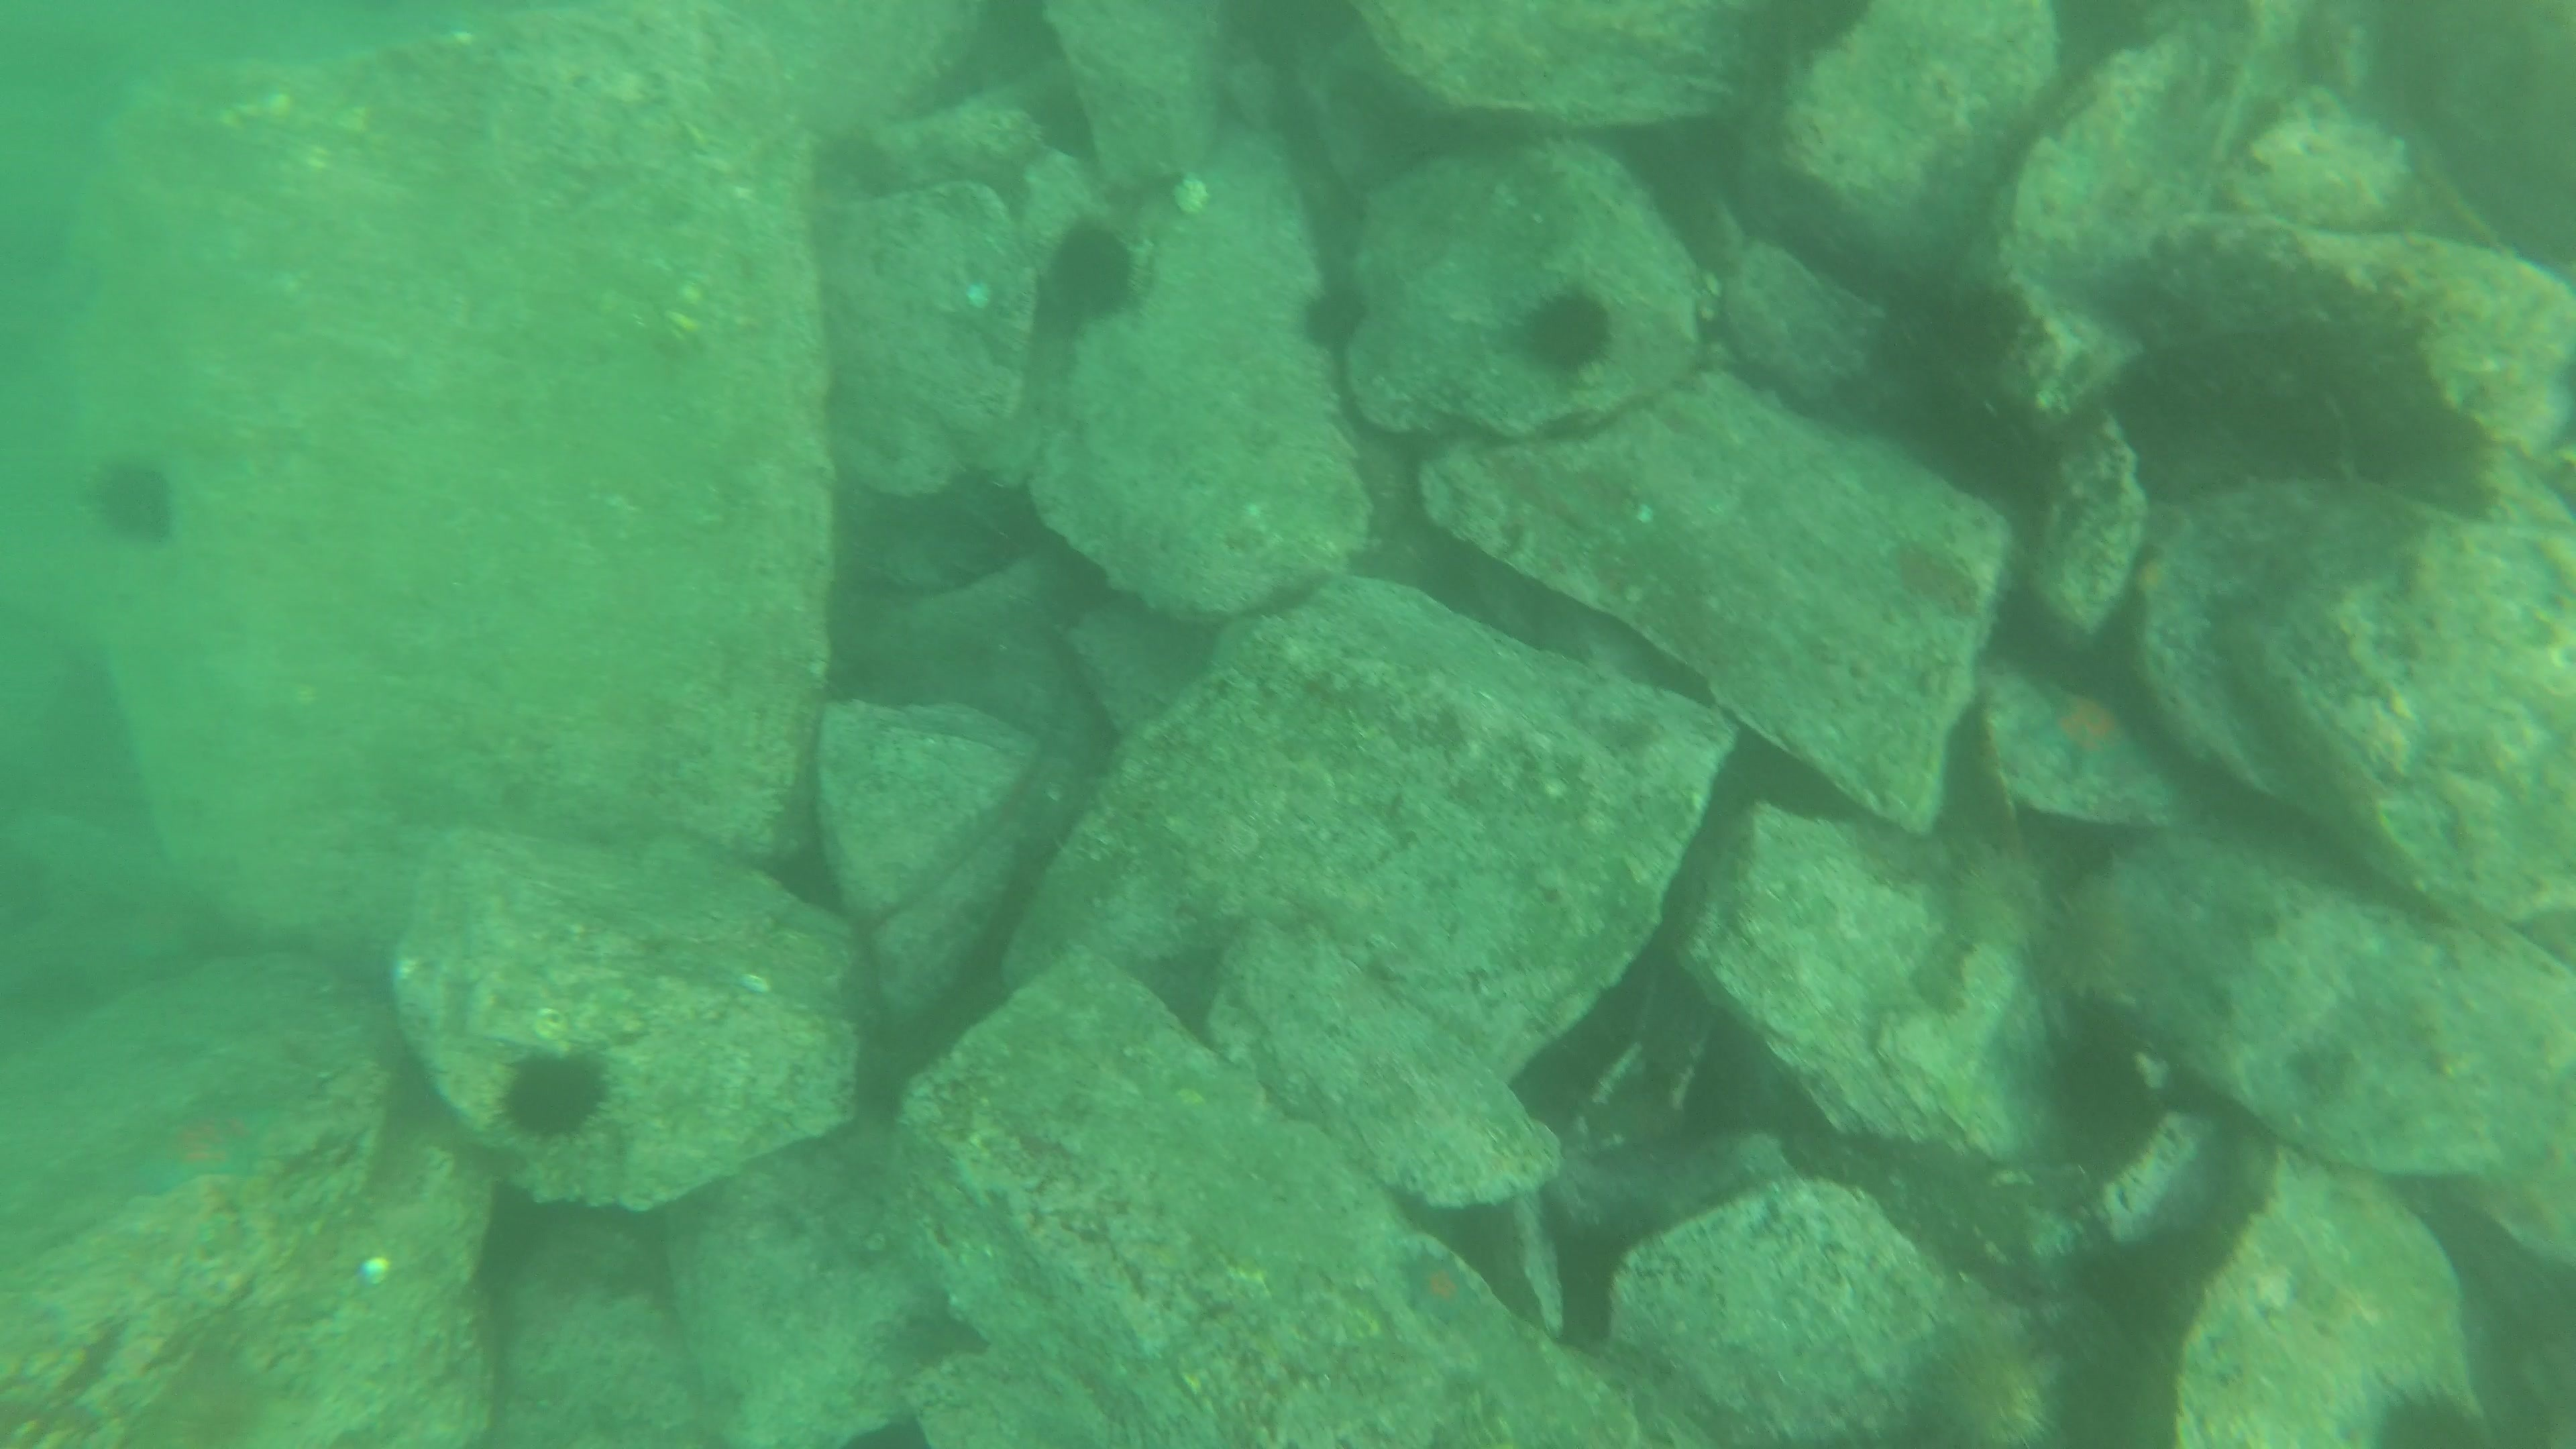echinus: (2031, 1001, 2174, 1175), (1909, 1329, 2070, 1449), (2031, 870, 2169, 1010), (1939, 840, 2058, 964), (1037, 214, 1150, 331), (492, 1040, 616, 1146), (1509, 280, 1622, 384), (81, 449, 186, 552), (1739, 0, 1884, 73), (2357, 1371, 2493, 1445), (1293, 271, 1375, 359)
starfish: (2013, 669, 2153, 793), (126, 1090, 276, 1203), (1389, 1235, 1499, 1336)
